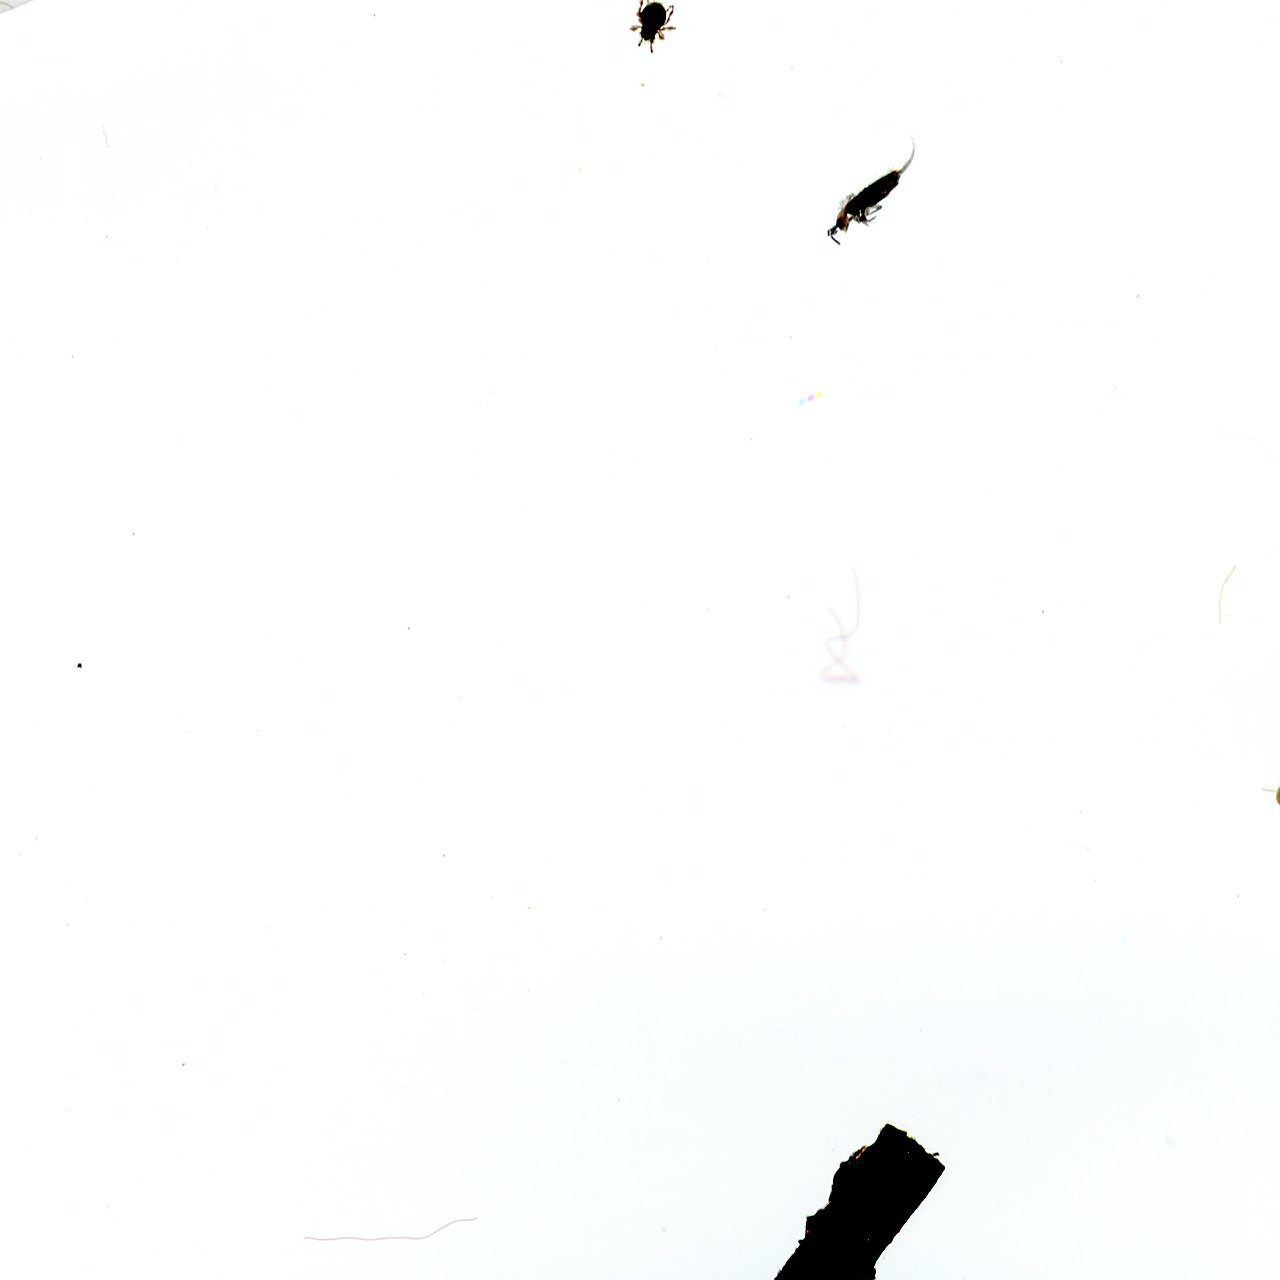arthropod: (0, 0, 111, 185), (811, 121, 937, 259), (628, 0, 679, 56), (1258, 757, 1280, 825), (580, 0, 642, 14)
